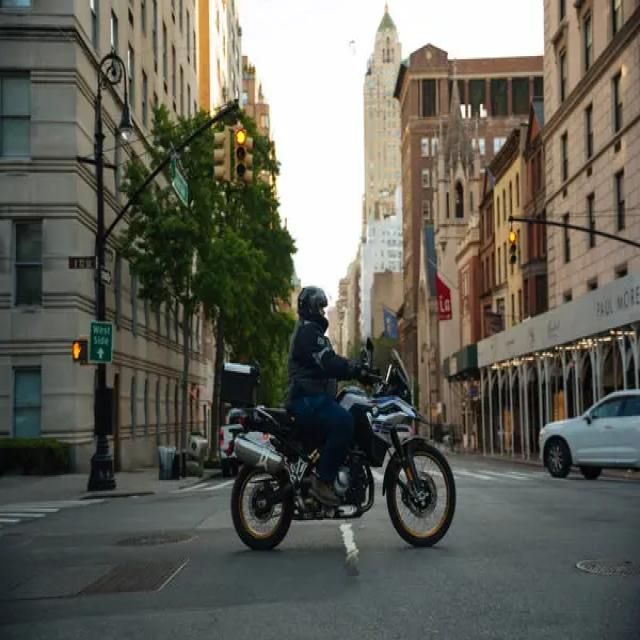bike: (226, 341, 455, 554)
